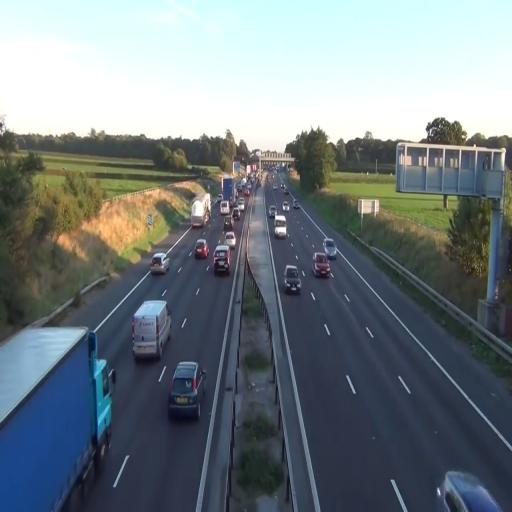vehicle: (0, 324, 116, 509), (440, 469, 504, 511), (130, 298, 172, 360), (168, 361, 206, 421), (283, 264, 303, 294), (213, 245, 231, 277), (312, 250, 332, 278), (150, 252, 170, 276), (194, 238, 209, 260), (274, 214, 287, 238), (323, 238, 337, 258), (232, 203, 244, 222)
